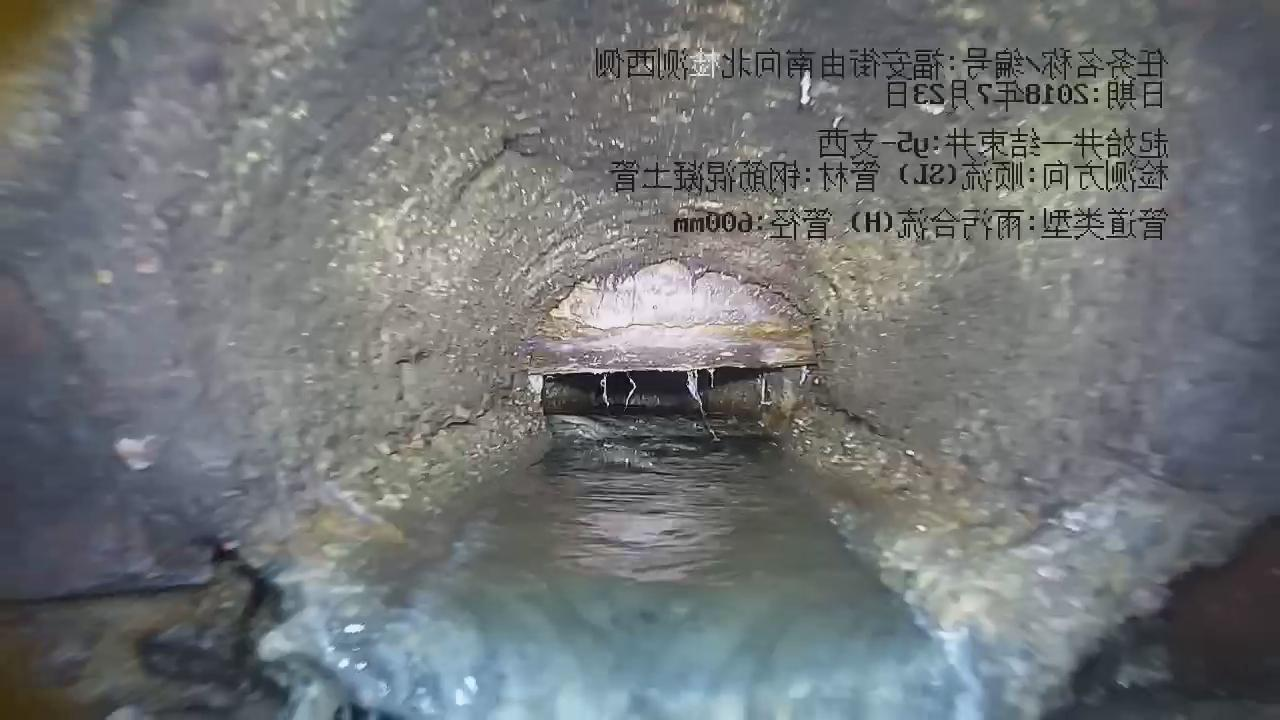YWCR: (528, 259, 814, 373)
